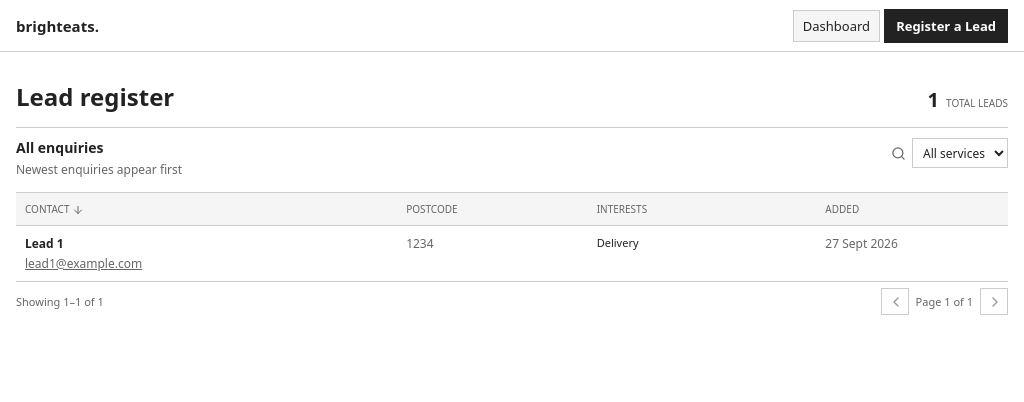
it: opens a lead from the list and returns to the list
Click the row named "Open lead details for Lead 1" at coordinates (44, 243), box [16,225,1008,280]
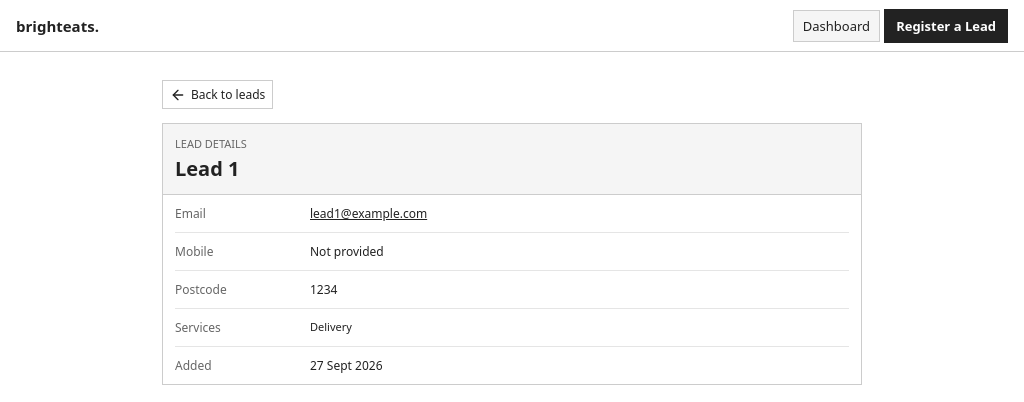
Expected: the heading "Lead 1" is shown, [175,155,247,182]
Expected: the link "lead1@example.com" is shown, [310,205,427,222]
Click the button "Back to leads" at coordinates (218, 94), box [162,80,273,109]
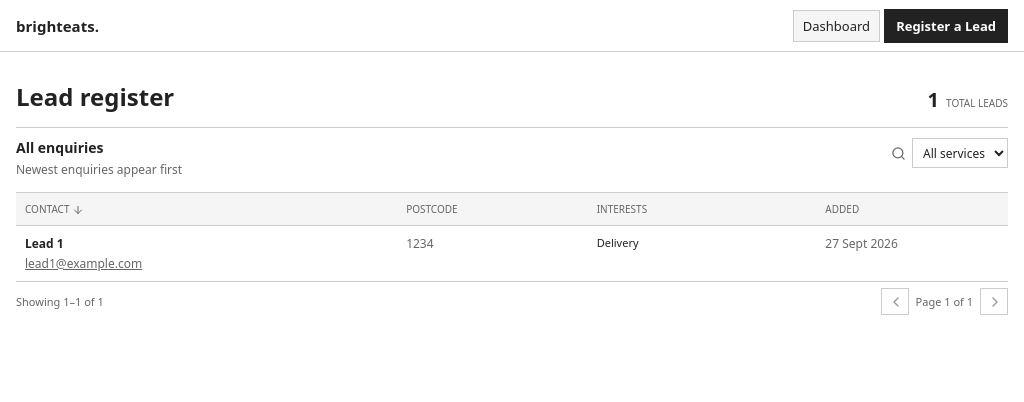
Expected: the heading "All enquiries" is shown, [16,138,104,157]
